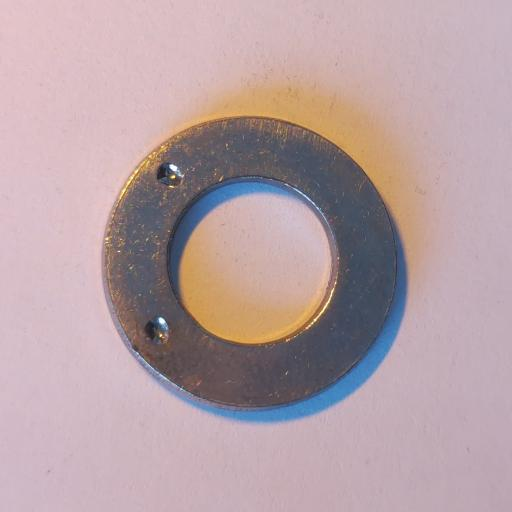circular_cavity: (157, 160, 185, 187), (146, 316, 170, 344)
